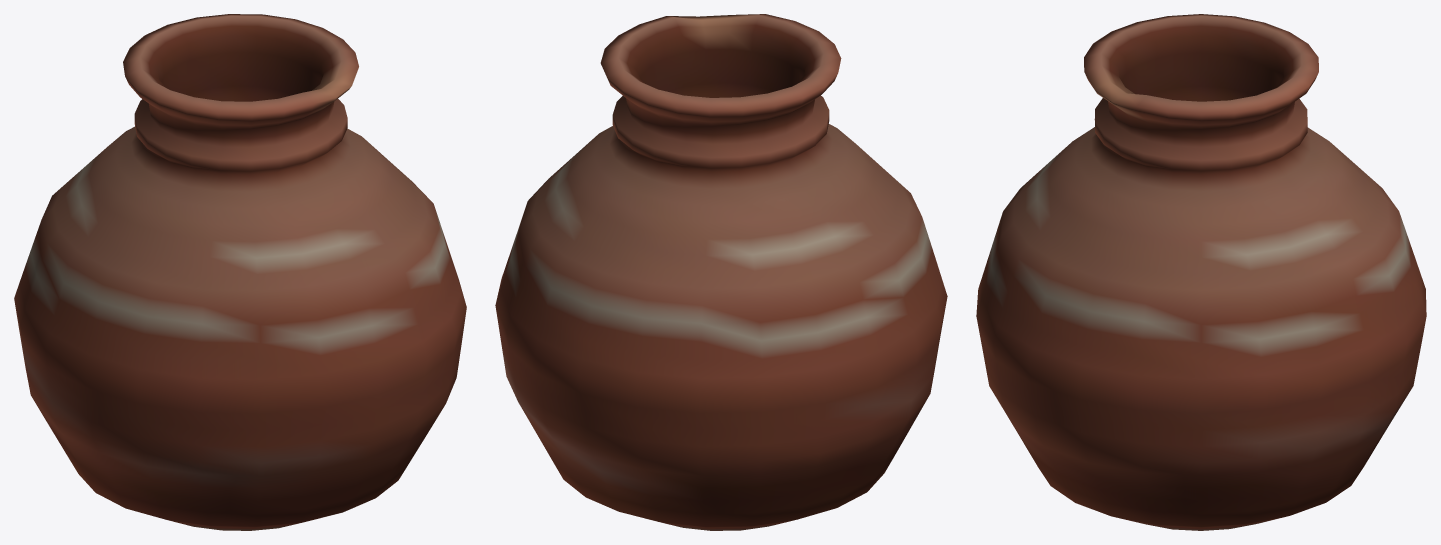
The model's file is pot_ghada_v2_c.glb.
The picture shows the model from 3 angles, left to right: view 1: azimuth 30°, elevation 25°; view 2: azimuth 150°, elevation 25°; view 3: azimuth 270°, elevation 25°; orthographic projection.
Parts seen in each view (by area): view 1: hb_main; view 2: hb_main; view 3: hb_main.
Boxes of the visible parts, x1,y1,x2,y2 form: hb_main: [14, 14, 466, 530]; hb_main: [495, 14, 947, 530]; hb_main: [976, 14, 1426, 530].
Bounding box in the file's own units: 0.4617 × 0.486 × 0.4627.
